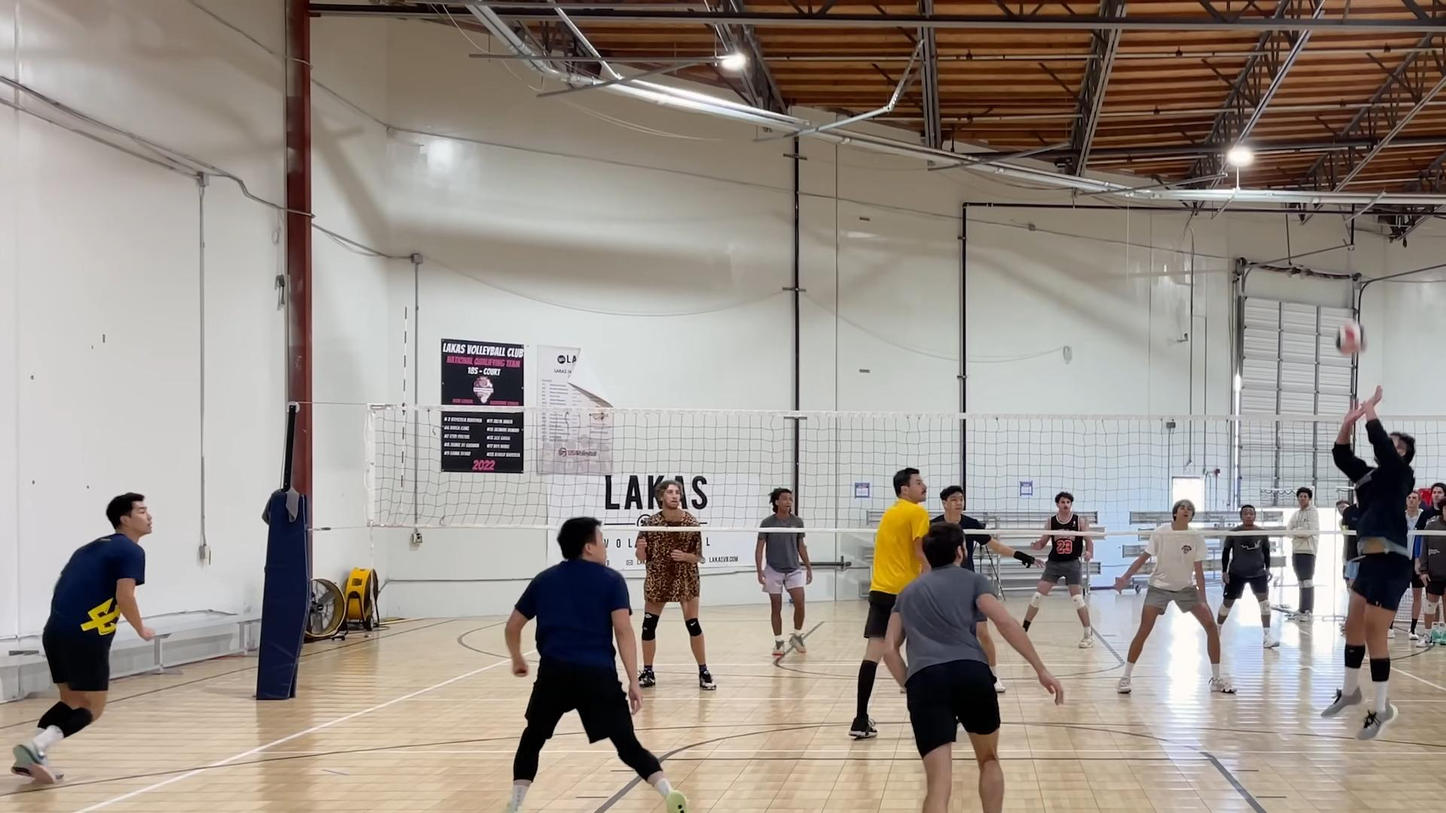Player: (505, 517, 686, 812), (884, 524, 1063, 812), (12, 492, 154, 782), (1115, 500, 1234, 693), (850, 467, 929, 738), (635, 529, 715, 690), (1023, 492, 1094, 647), (932, 485, 1036, 570), (755, 530, 812, 656), (1216, 533, 1278, 648)
Set: (1300, 386, 1438, 747)
